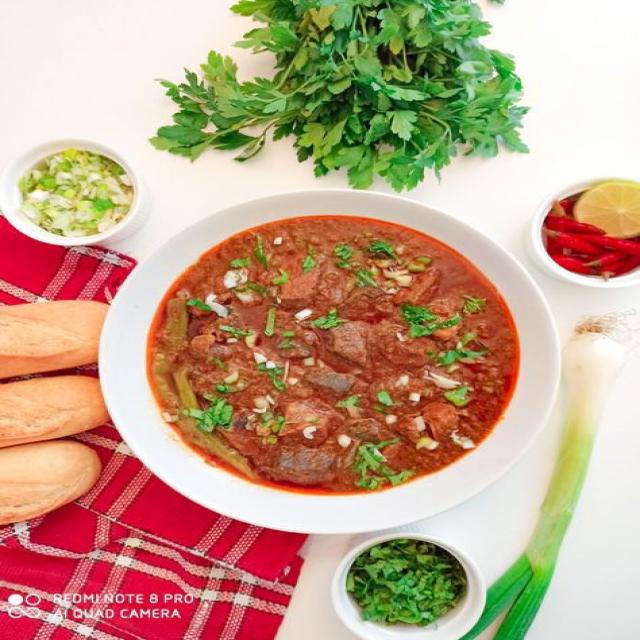kamouniya: (102, 194, 571, 514)
